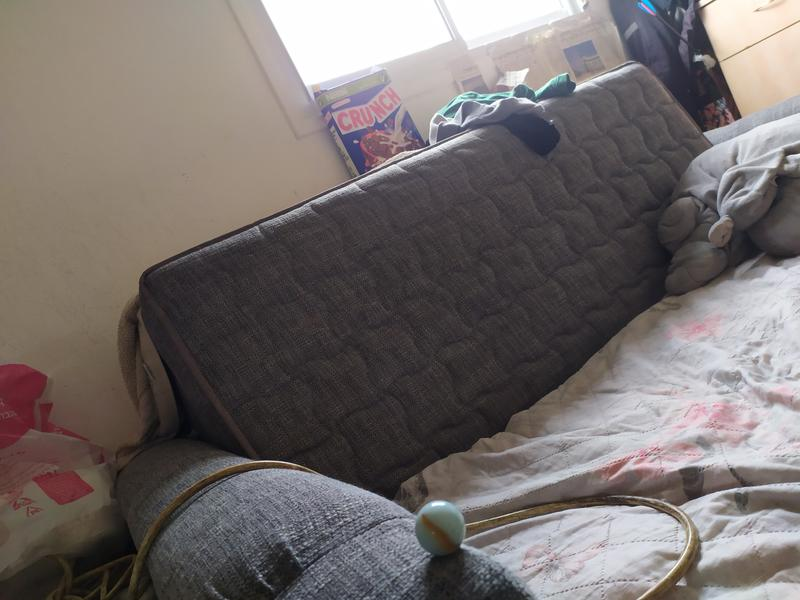Warning: (414, 498, 467, 558)
